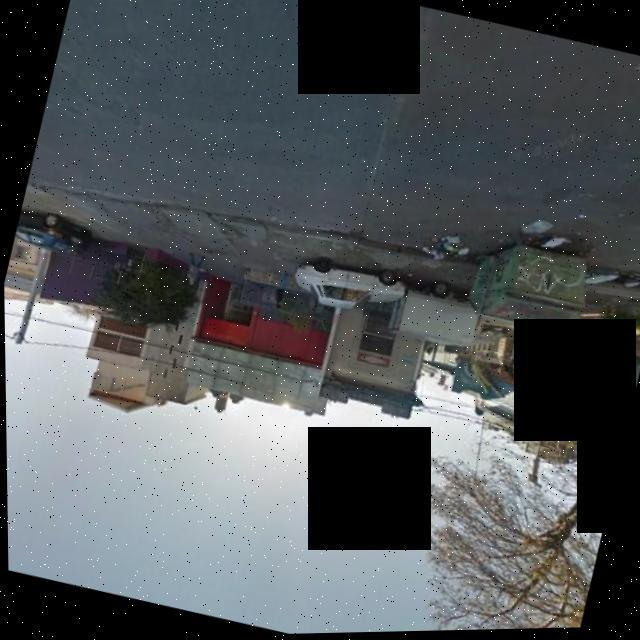bin: (445, 214, 619, 360)
